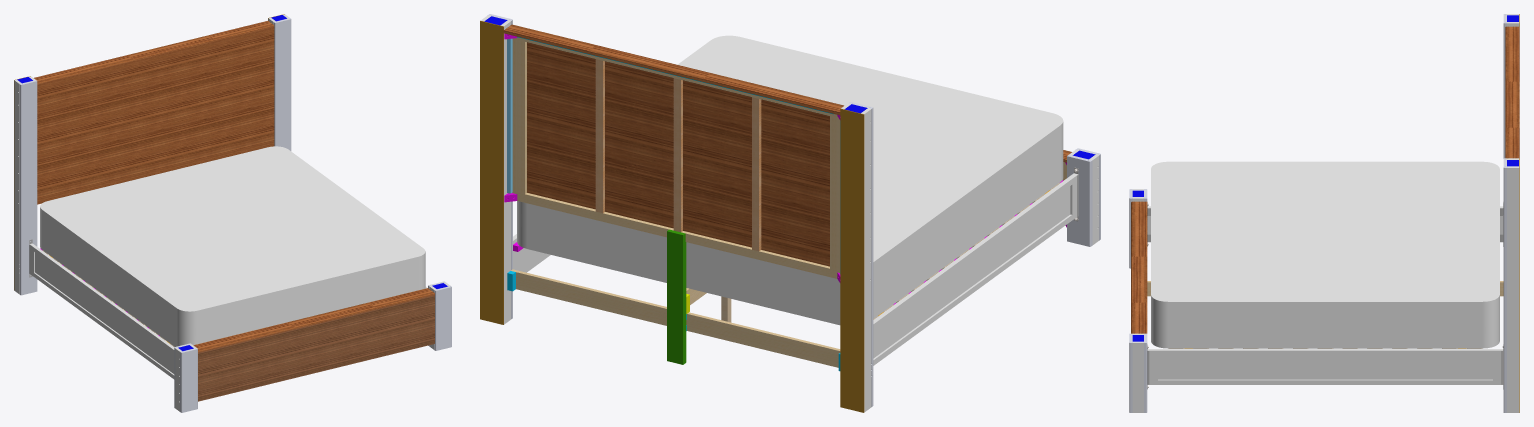
File: IFD8681-KING-mwn1y5jt.glb
3 renders of one model, left to right at view 1: azimuth 30°, elevation 25°; view 2: azimuth 150°, elevation 25°; view 3: azimuth 270°, elevation 25°, orthographic. The views are drawn at different scales.
Parts seen in each view (by area): view 1: COLCHON AMERICANO-1, 8681HBDEK-TABLERO DE CABECERA -1/8681HBDEK-TABLERO CABECERA-, IFD8681PLTEK-TABLERO DE BASTIDOR PIECERA-1, 8681HBDEK-PATA CABECERA-2/8681HBDEK-VISTA FRONTAL DE PATA-1, IFD8681PLTEK-TABLERO PARA RIEL-1, 8681HBDEK-PATA CABECERA-1/8681HBDEK-VISTA FRONTAL DE PATA-1, 8681PLTEK-TAPA PIECERA-1, 8681HBDEK-TAPA CABECERA-1, 8681HBDEK-PATA CABECERA-2/8681HBDEK-POSTE LATERAL PATA-1, IFD8681PLTEK-BOQUILLA SUPERIOR E INFERIOR-3, 8681PLTEK-PATA PIECERA-2/8681PLTEK-VISTA FRONTAL DE PATA-1, 8681PLTEK-PATA PIECERA-3/8681PLTEK-VISTA FRONTAL DE PATA-1 (+1 smaller); view 2: COLCHON AMERICANO-1, 8681HBDEK-TABLERO DE CABECERA -1/8681HBDEK-TABLERO CABECERA-, 8681HBDEK-TABLERO DE CABECERA -1/8681HBDEK - BASTIDOR CABECE (×7), 8681HBDEK-PATA CABECERA-2/8681HBDEK-RESPALDO DE PATA-1, 8681HBDEK-PATA CABECERA-1/8681HBDEK-RESPALDO DE PATA-1, 8681HBDEK-TRAVESAÑO CABECERA-1, IFD8681PLTEK-TABLERO PARA RIEL-1, 8681HBDEK-TAPA CABECERA-1, 8681HBDEK-REFUERZO CENTRAL-1, 8681HBDEK-PATA CABECERA-2/8681HBDEK-POSTE LATERAL PATA-1, IFD8681PLTEK-BOQUILLA SUPERIOR E INFERIOR-3, 8681PLTEK-PATA PIECERA-2/8681PLTEK-VISTA FRONTAL DE PATA-2 (+5 smaller); view 3: COLCHON AMERICANO-1, IFD8681PLTEK-TABLERO PARA RIEL-1, 8681HBDEK-PATA CABECERA-1/8681HBDEK-POSTE LATERAL PATA-2, IFD8681PLTEK-BOQUILLA SUPERIOR E INFERIOR-3, 8681PLTEK-TAPA PIECERA-1, IFD8681PLTEK-BOQUILLA SUPERIOR E INFERIOR-4, 8681HBDEK-TAPA CABECERA-1, 8681HBDEK-PATA CABECERA-1/8681HBDEK-VISTA FRONTAL DE PATA-1, 8681PLTEK-PATA PIECERA-3/8681PLTEK-POSTE LATERAL PATA-2, 8681HBDEK-PATA CABECERA-2/8681HBDEK-VISTA FRONTAL DE PATA-1.
Part boxes in pixels (<box>): COLCHON AMERICANO-1: <box>40,146,425,346</box>; 8681HBDEK-TABLERO DE CABECERA -1/8681HBDEK-TABLERO CABECERA-: <box>37,27,274,204</box>; IFD8681PLTEK-TABLERO DE BASTIDOR PIECERA-1: <box>198,295,434,401</box>; 8681HBDEK-PATA CABECERA-2/8681HBDEK-VISTA FRONTAL DE PATA-1: <box>19,80,37,295</box>; IFD8681PLTEK-TABLERO PARA RIEL-1: <box>35,252,174,373</box>; 8681HBDEK-PATA CABECERA-1/8681HBDEK-VISTA FRONTAL DE PATA-1: <box>273,18,291,150</box>; 8681PLTEK-TAPA PIECERA-1: <box>193,288,434,352</box>; 8681HBDEK-TAPA CABECERA-1: <box>34,21,274,84</box>; 8681HBDEK-PATA CABECERA-2/8681HBDEK-POSTE LATERAL PATA-1: <box>14,79,21,294</box>; IFD8681PLTEK-BOQUILLA SUPERIOR E INFERIOR-3: <box>29,243,174,353</box>; 8681PLTEK-PATA PIECERA-2/8681PLTEK-VISTA FRONTAL DE PATA-1: <box>180,348,197,412</box>; 8681PLTEK-PATA PIECERA-3/8681PLTEK-VISTA FRONTAL DE PATA-1: <box>434,286,451,350</box>; COLCHON AMERICANO-1: <box>517,35,1063,325</box>; 8681HBDEK-TABLERO DE CABECERA -1/8681HBDEK-TABLERO CABECERA-: <box>527,42,829,266</box>; 8681HBDEK-TABLERO DE CABECERA -1/8681HBDEK - BASTIDOR CABECE (×7): <box>512,37,839,278</box>; 8681HBDEK-PATA CABECERA-2/8681HBDEK-RESPALDO DE PATA-1: <box>840,108,864,412</box>; 8681HBDEK-PATA CABECERA-1/8681HBDEK-RESPALDO DE PATA-1: <box>480,20,503,324</box>; 8681HBDEK-TRAVESAÑO CABECERA-1: <box>511,269,840,367</box>; IFD8681PLTEK-TABLERO PARA RIEL-1: <box>873,186,1070,358</box>; 8681HBDEK-TAPA CABECERA-1: <box>503,24,843,115</box>; 8681HBDEK-REFUERZO CENTRAL-1: <box>667,229,686,364</box>; 8681HBDEK-PATA CABECERA-2/8681HBDEK-POSTE LATERAL PATA-1: <box>861,107,871,412</box>; IFD8681PLTEK-BOQUILLA SUPERIOR E INFERIOR-3: <box>873,173,1078,329</box>; 8681PLTEK-PATA PIECERA-2/8681PLTEK-VISTA FRONTAL DE PATA-2: <box>1067,154,1092,246</box>; COLCHON AMERICANO-1: <box>1151,161,1499,348</box>; IFD8681PLTEK-TABLERO PARA RIEL-1: <box>1158,355,1492,379</box>; 8681HBDEK-PATA CABECERA-1/8681HBDEK-POSTE LATERAL PATA-2: <box>1505,166,1518,412</box>; IFD8681PLTEK-BOQUILLA SUPERIOR E INFERIOR-3: <box>1147,349,1503,355</box>; 8681PLTEK-TAPA PIECERA-1: <box>1131,201,1147,333</box>; IFD8681PLTEK-BOQUILLA SUPERIOR E INFERIOR-4: <box>1148,379,1502,384</box>; 8681HBDEK-TAPA CABECERA-1: <box>1505,26,1519,158</box>; 8681HBDEK-PATA CABECERA-1/8681HBDEK-VISTA FRONTAL DE PATA-1: <box>1503,158,1506,412</box>; 8681PLTEK-PATA PIECERA-3/8681PLTEK-POSTE LATERAL PATA-2: <box>1131,341,1145,412</box>; 8681HBDEK-PATA CABECERA-2/8681HBDEK-VISTA FRONTAL DE PATA-1: <box>1503,14,1506,158</box>.
Bounding box in the file's own units: 2.12 × 1.58 × 2.27.
Materials: 26 (7 with a texture image).
